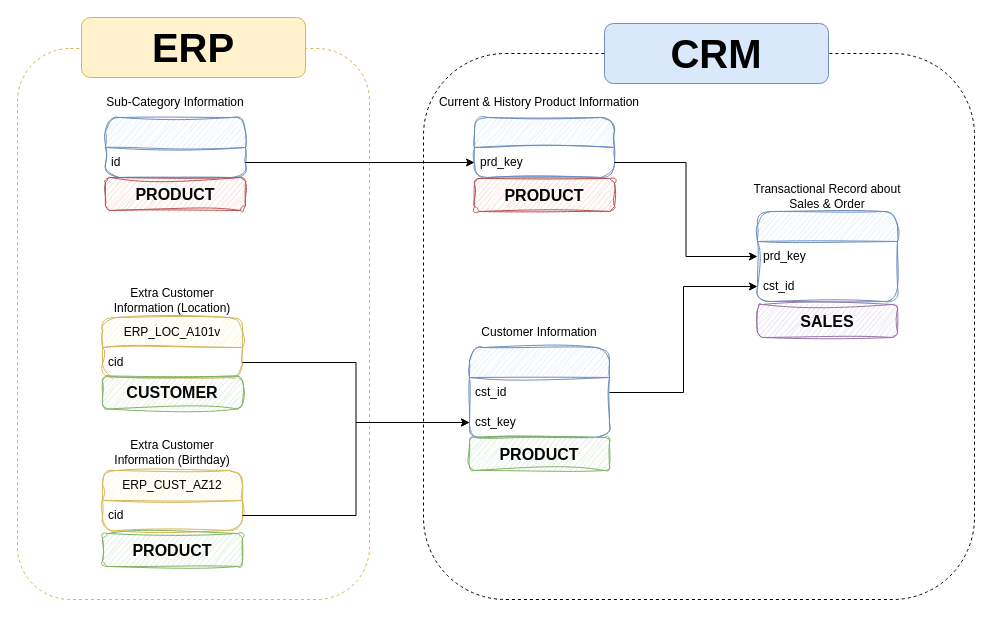
Image size: 992x617. Some labels were removed from this diagram. Each missing label, with the box of its shape:
CRM_CUST_INFO: (468, 346, 610, 438)
CRM_PRD_INFO: (474, 116, 614, 178)
CRM_SALES_DETAILS: (756, 210, 898, 302)
ERP_PX_CAT_G1V2: (104, 116, 246, 178)
